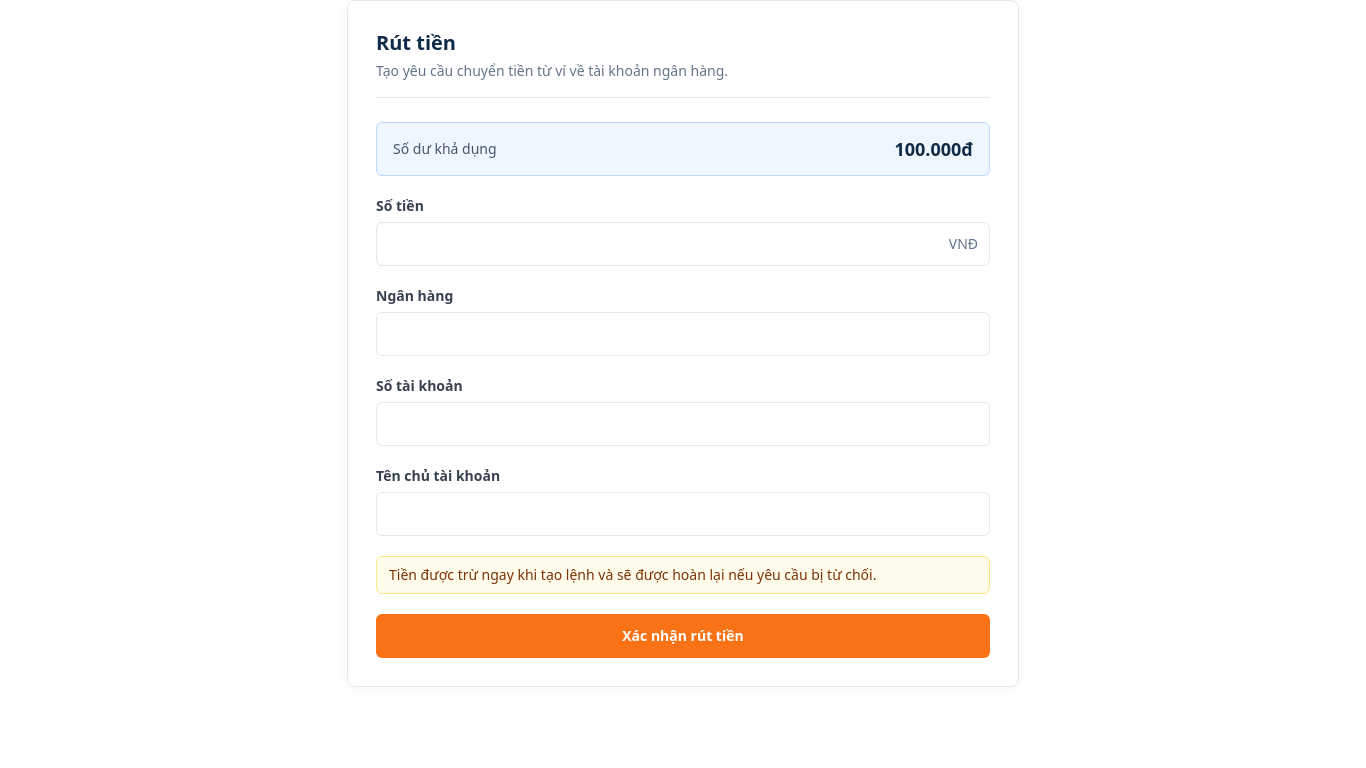
Test: WithdrawalForm › creates a pending withdrawal and refreshes the wallet
Expected: the text "100.000đ" is shown, [894,135,973,163]
Type "MBBank" into the field labelled "Ngân hàng" at (683, 334), box [376,312,990,356]
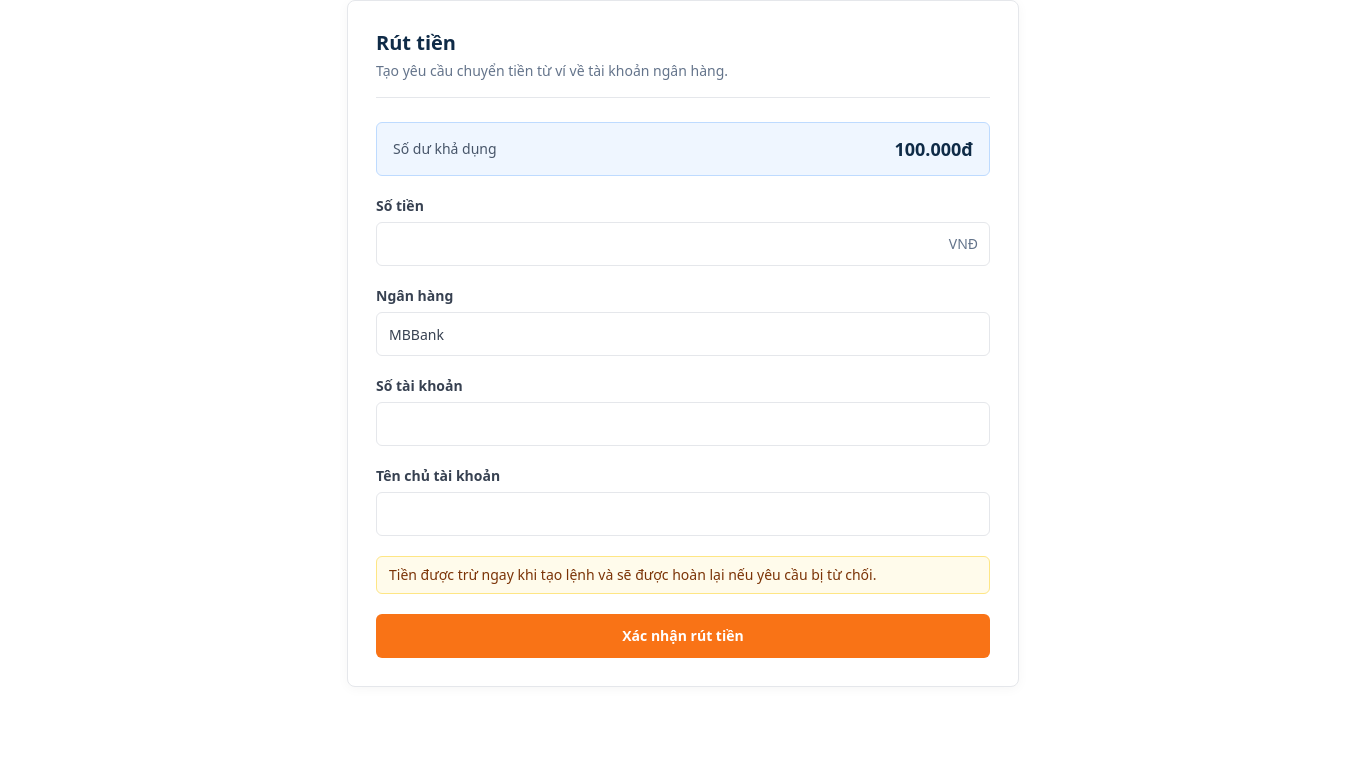
Type "123456789" into the field labelled "Số tài khoản" at (683, 424), box [376,402,990,446]
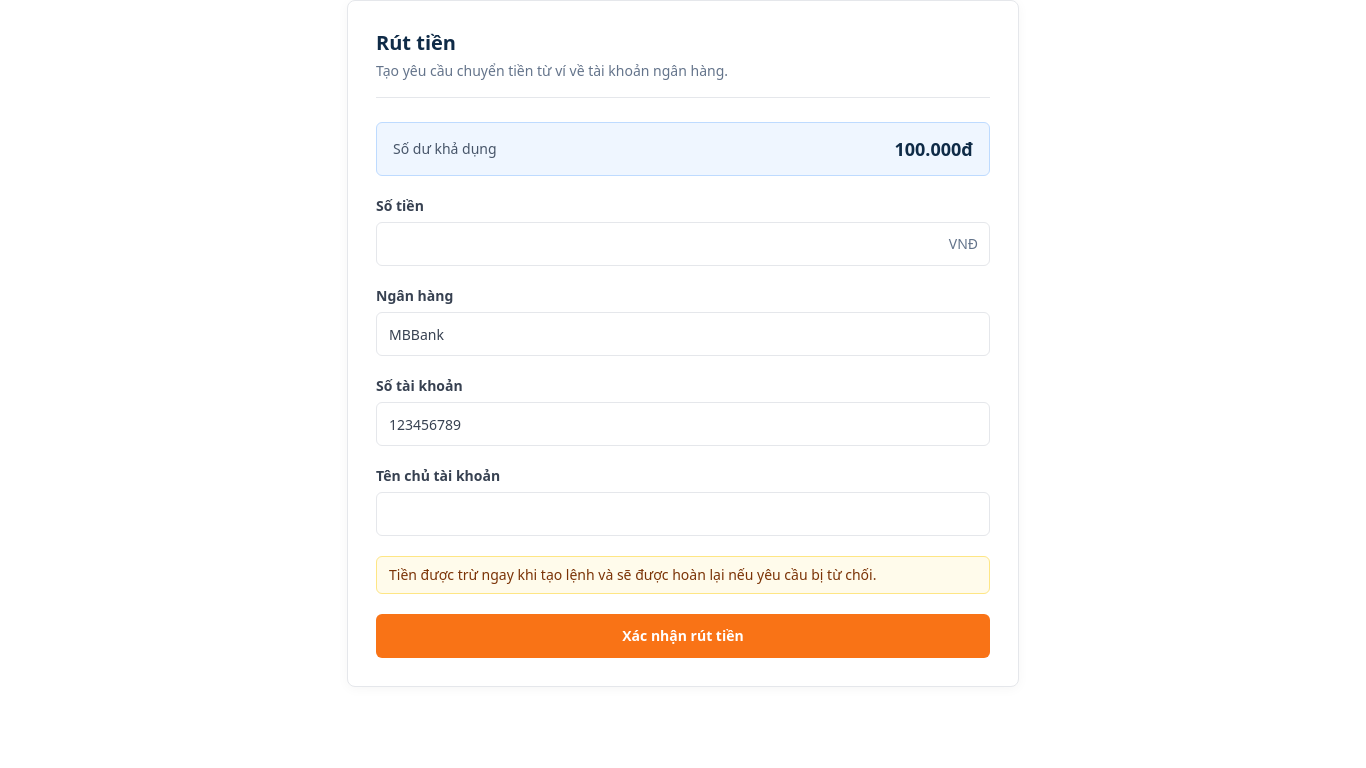
Type "Nguyen Van A" into the field labelled "Tên chủ tài khoản" at (683, 514), box [376,492,990,536]
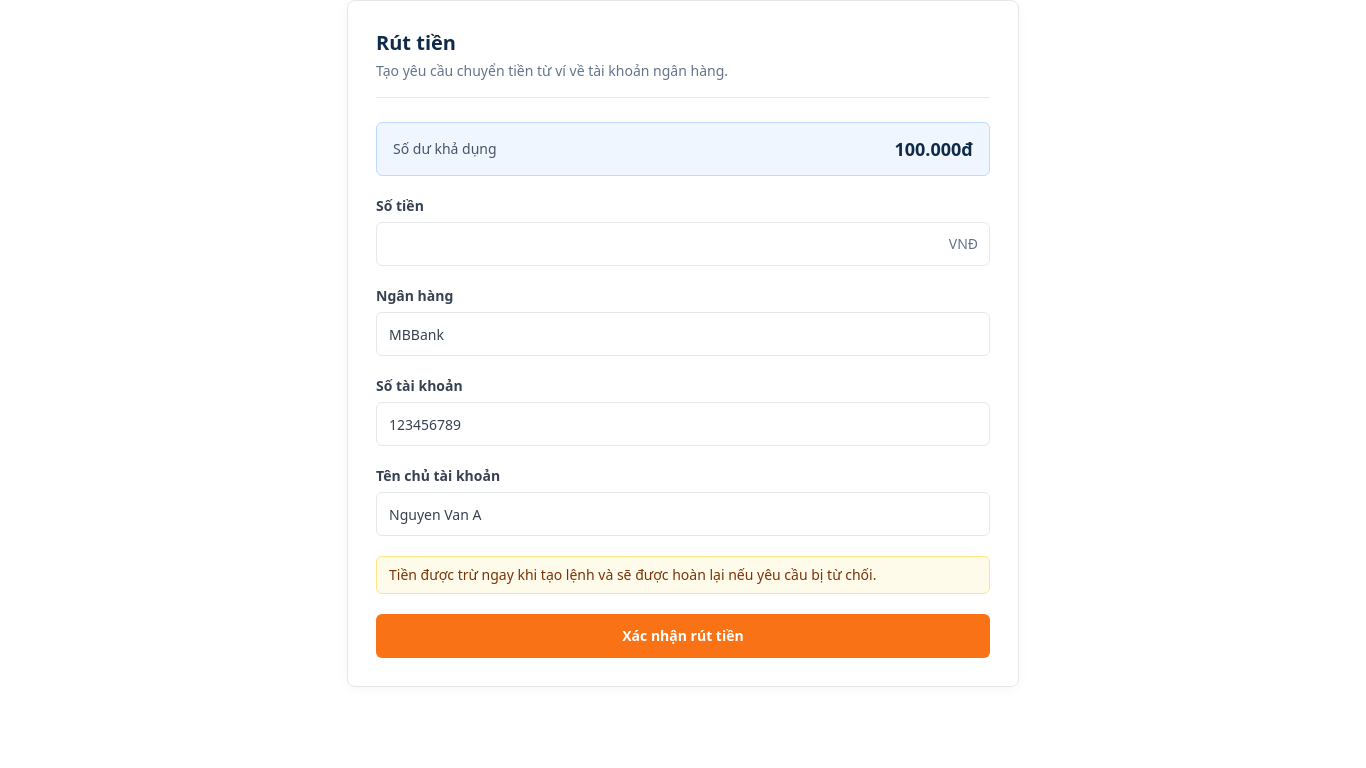
Type "50000" into the number field labelled "Số tiền VNĐ" at (683, 244), box [376,222,990,266]
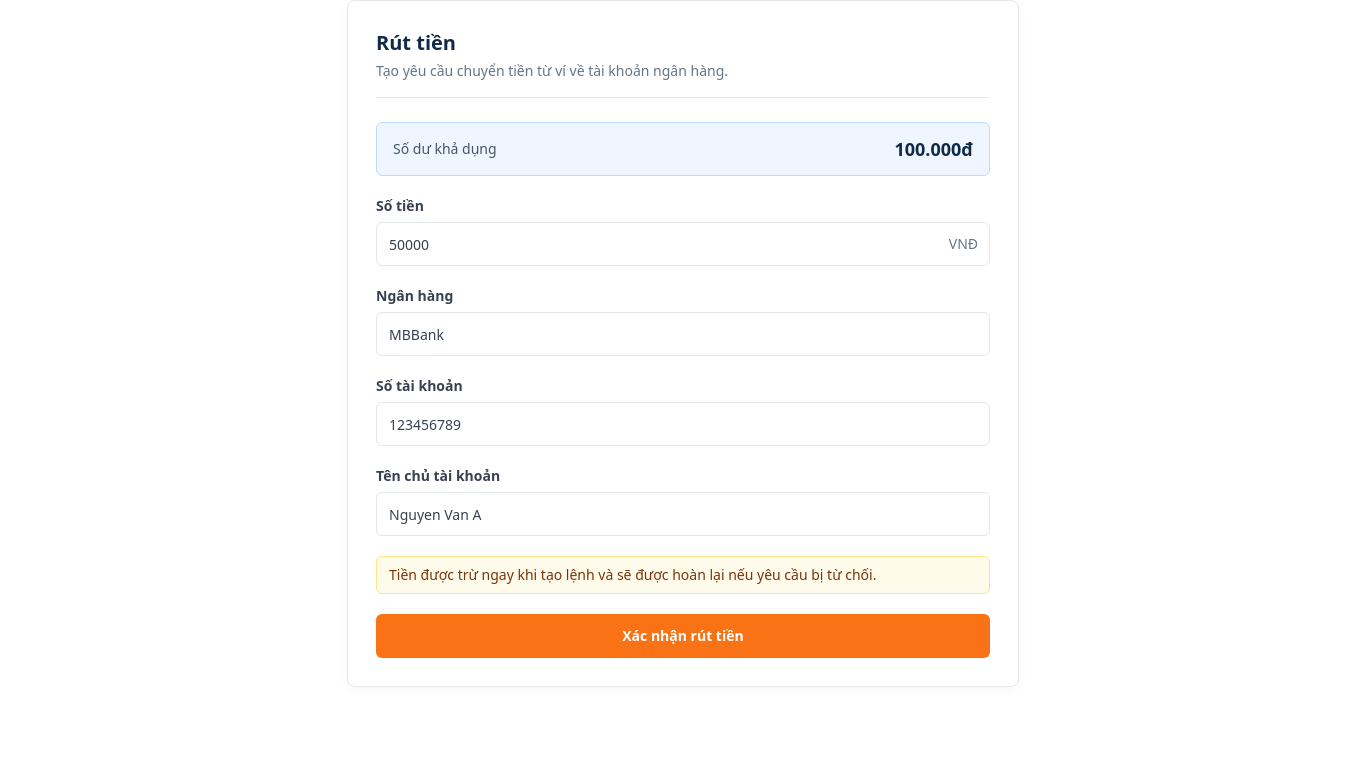
Click the button "Xác nhận rút tiền" at (683, 636), box [376,614,990,658]
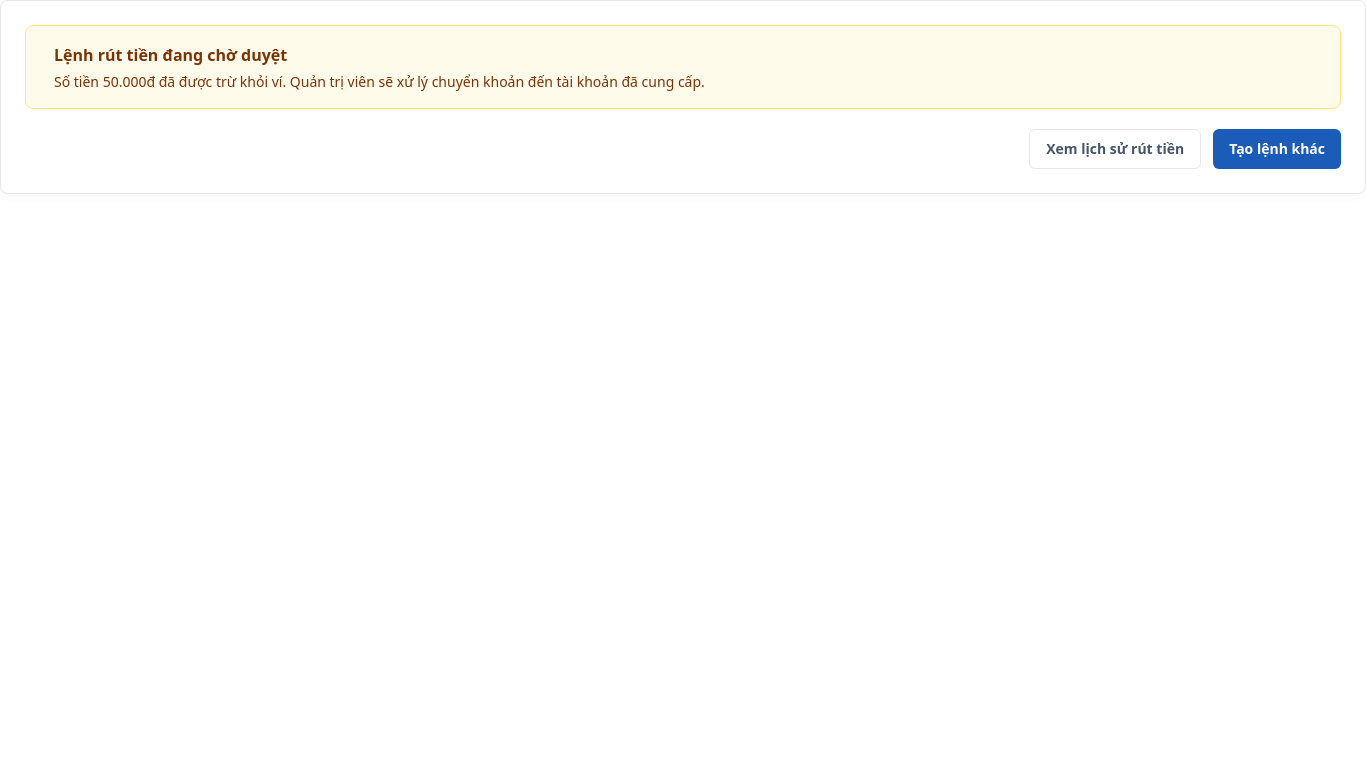
Now the heading "Lệnh rút tiền đang chờ duyệt" is shown, box [54,44,287,66]
